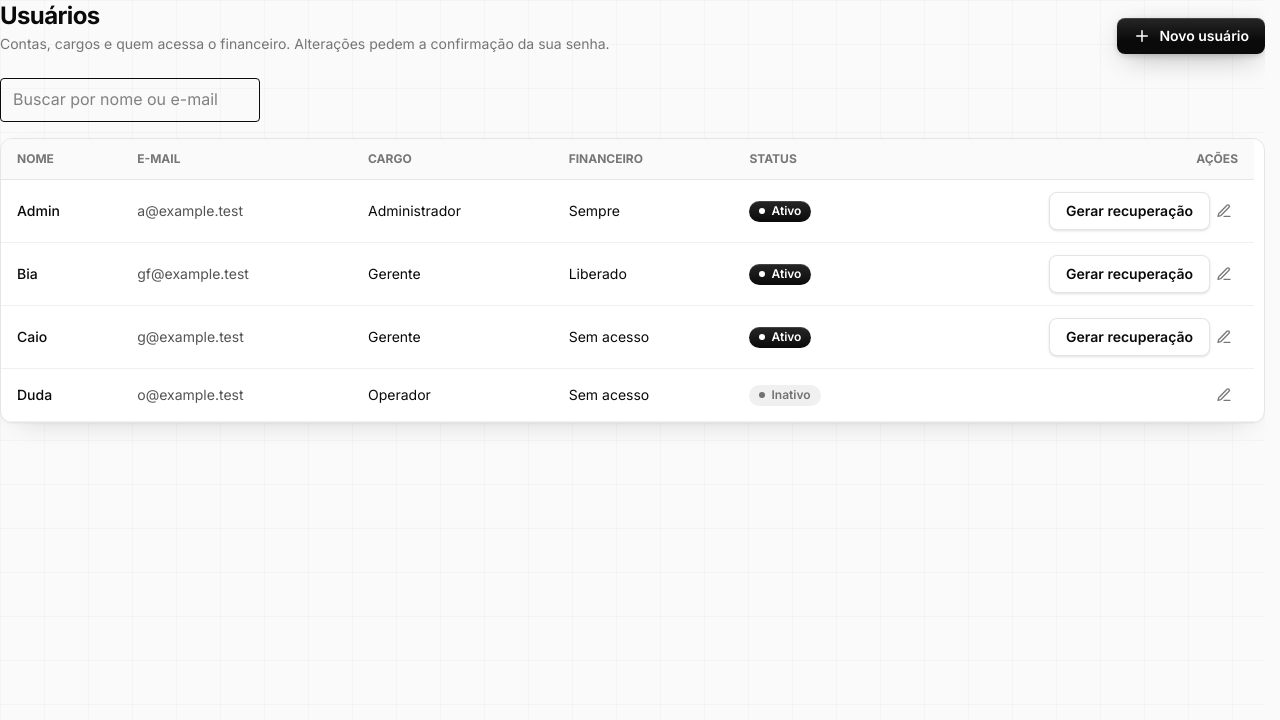
Test case: UsuariosPage › valida a senha inicial antes de enviar
Step 1. Click the button "Novo usuário" → coordinates (1191, 36), box [1117,18,1265,54]
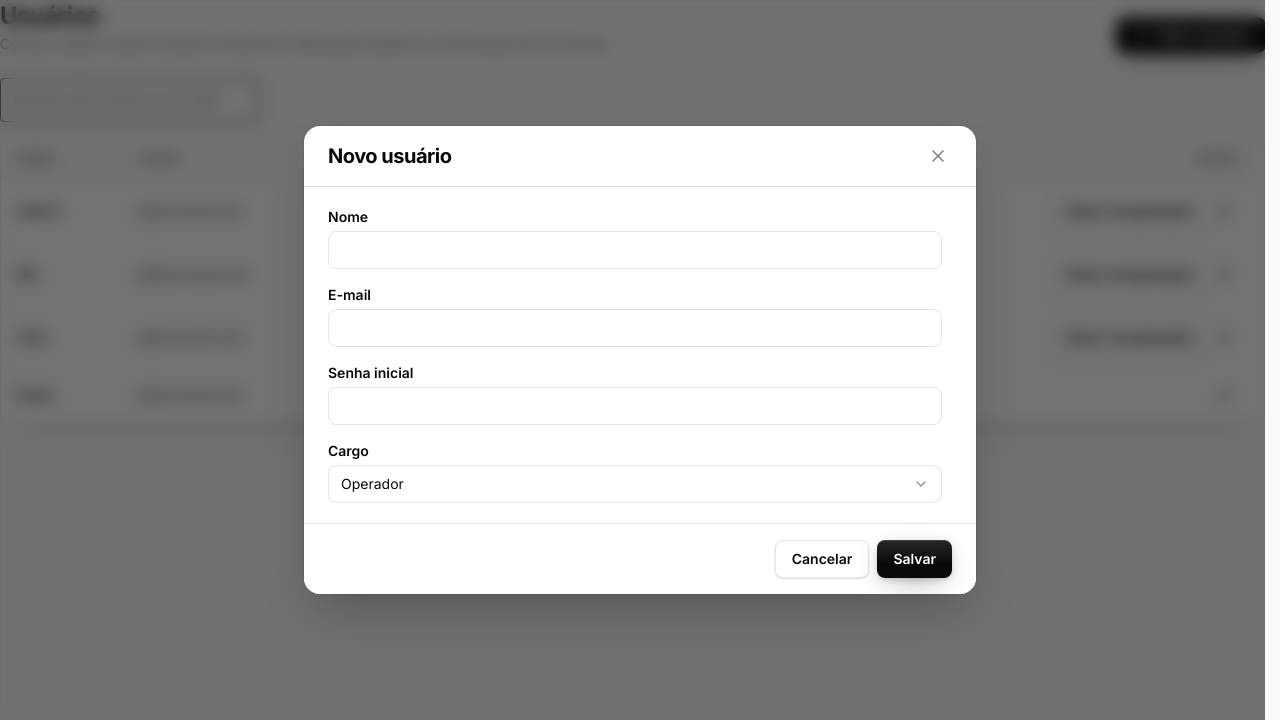
Step 2. Type "Pessoa" into the field labelled "Nome" → coordinates (635, 250), box [328,231,942,269]
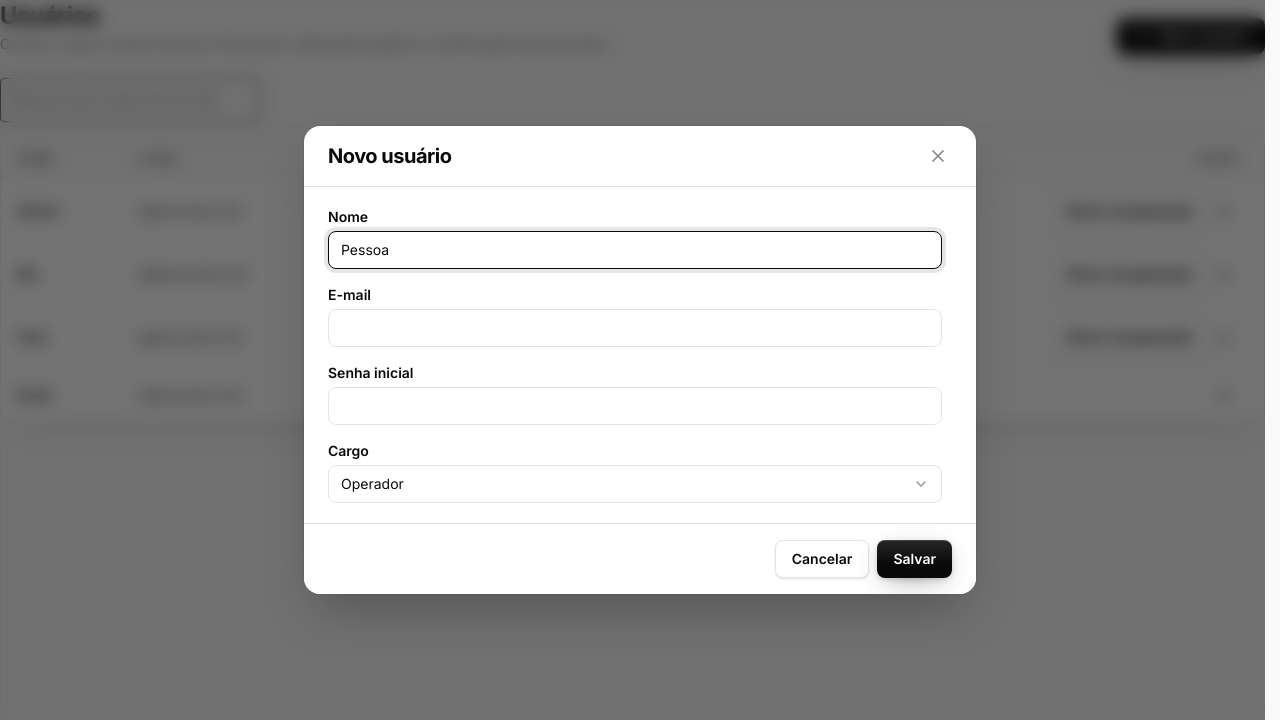
Step 3. Type "p@example.test" into the field labelled "E-mail" → coordinates (635, 328), box [328,309,942,347]
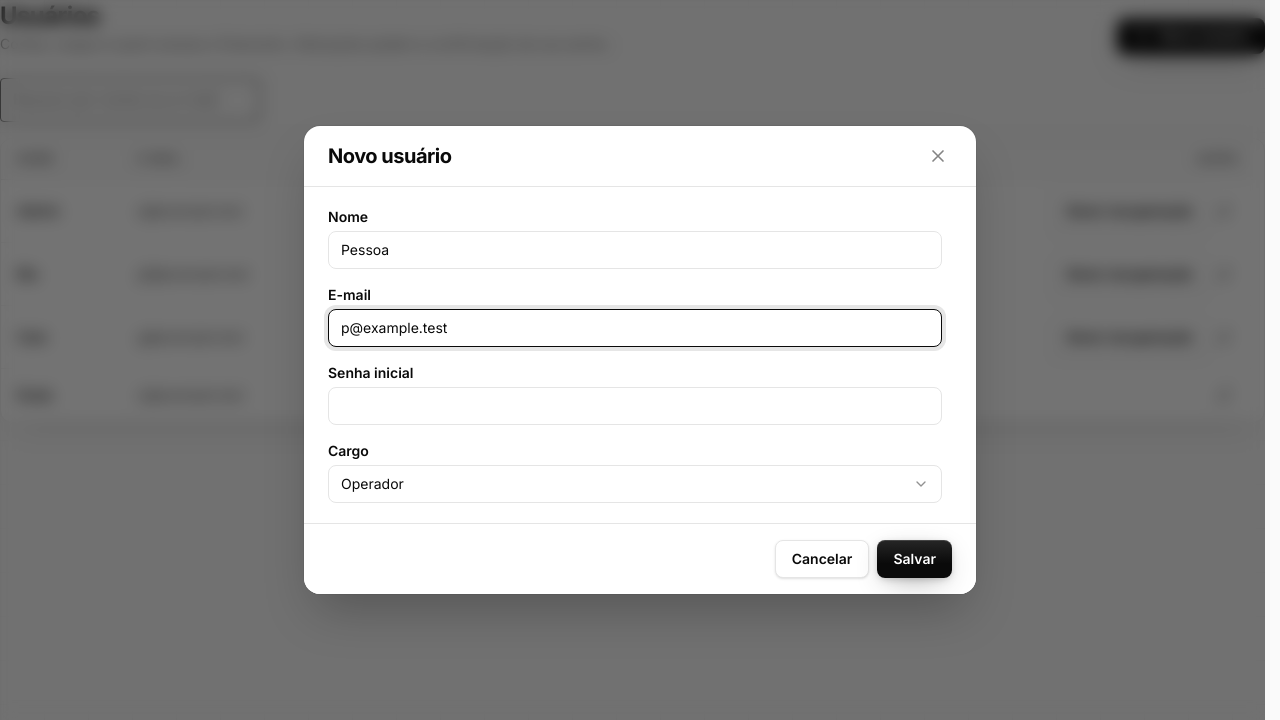
Step 4. Type "curta" into the password field labelled "Senha inicial" → coordinates (635, 406), box [328,387,942,425]
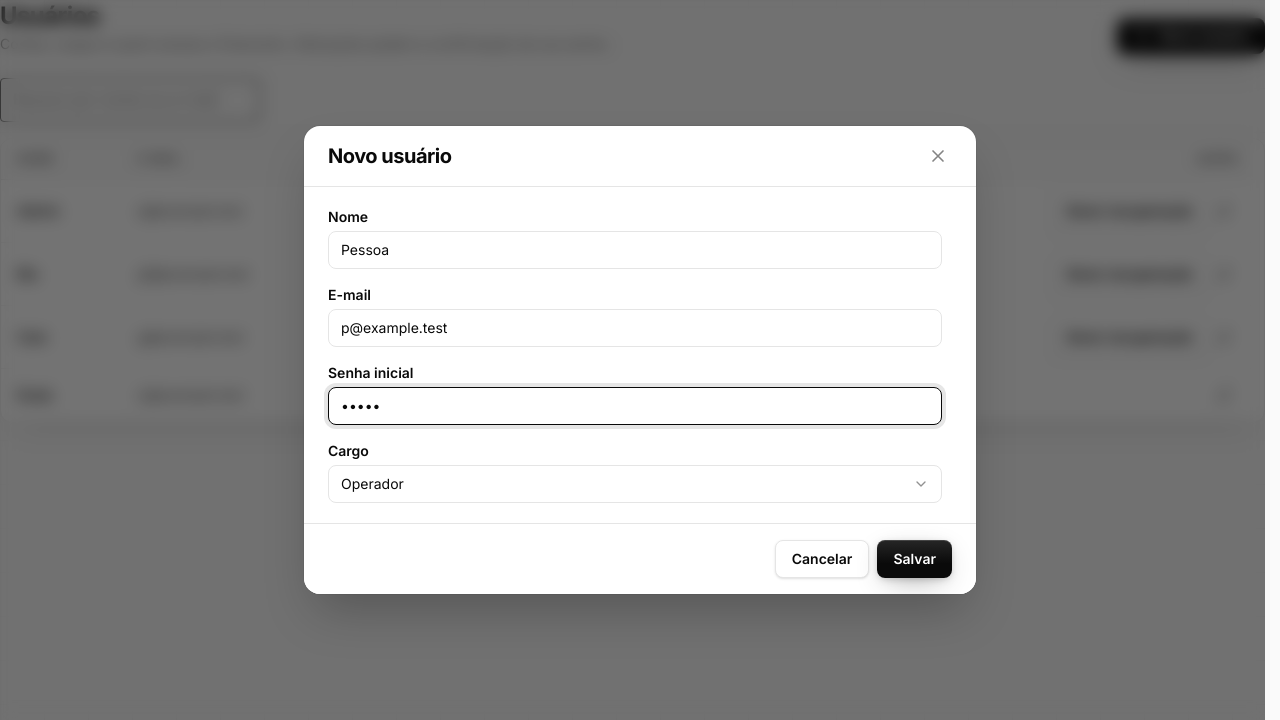
Step 5. Click the button "Salvar" → coordinates (915, 559), box [877,540,952,578]
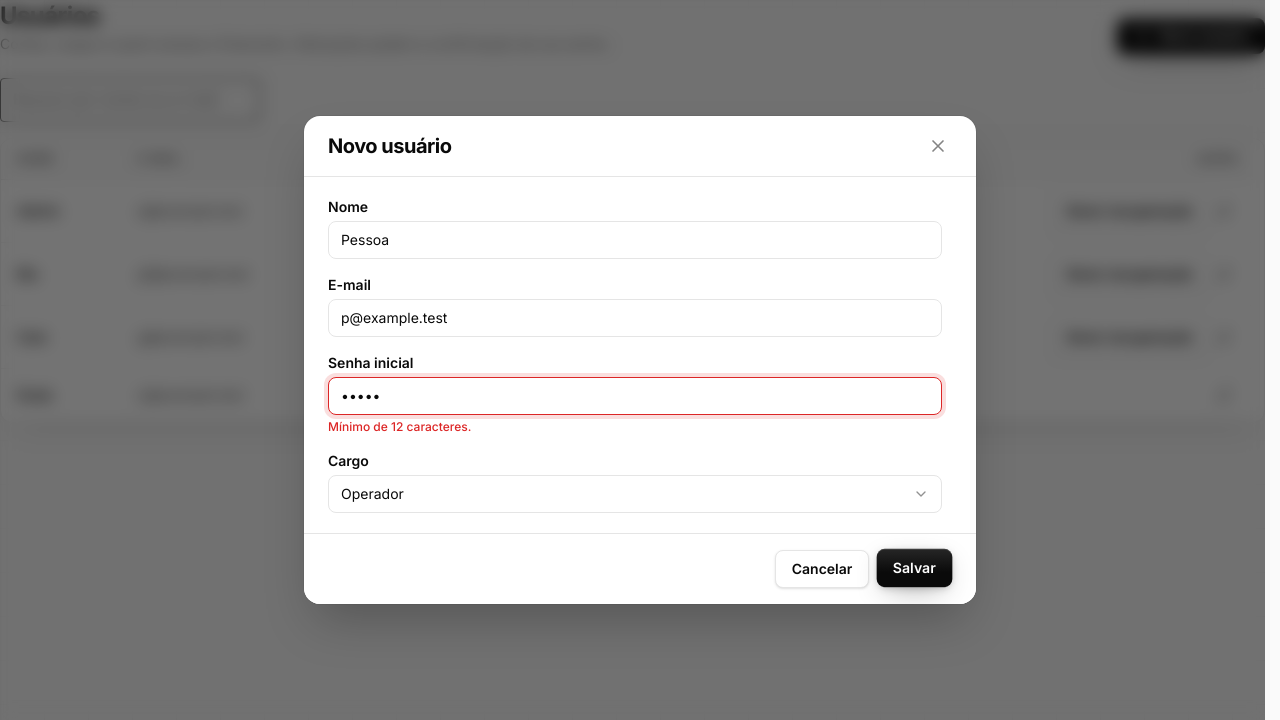
expect the text "Mínimo de 12 caracteres." is shown: met, box [328,419,471,434]
